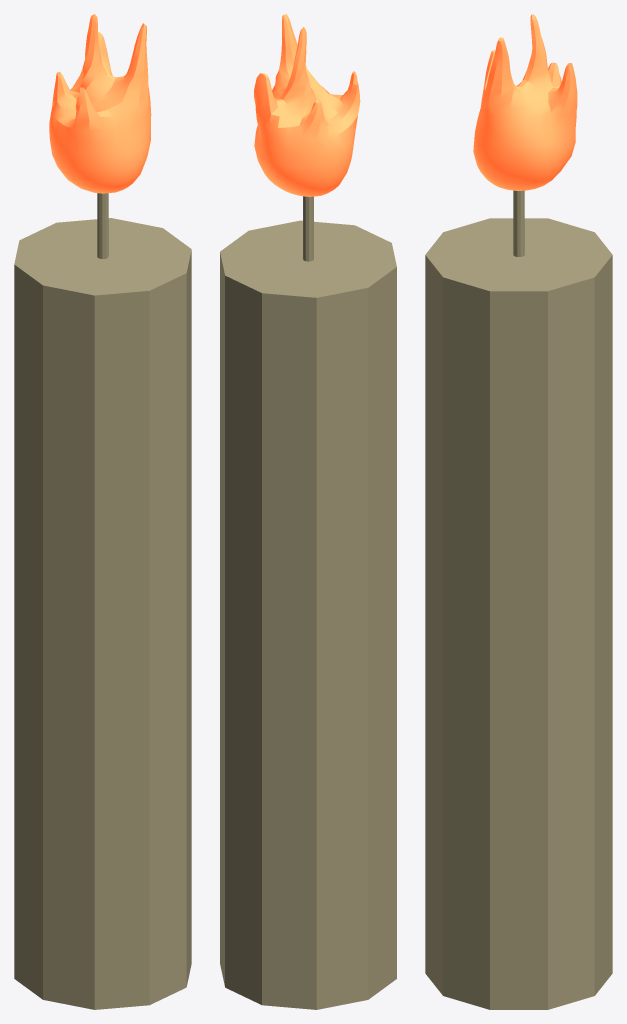
The model's file is FL_Candle 3.fbx.
3 renders of one model, left to right at view 1: azimuth 30°, elevation 25°; view 2: azimuth 150°, elevation 25°; view 3: azimuth 270°, elevation 25°, orthographic.
Visible parts, largest first — view 1: Candle 1.004; view 2: Candle 1.004; view 3: Candle 1.004.
Boxes of the visible parts, box(x1,y1,x2,y2) form: Candle 1.004: box(14, 14, 191, 1009); Candle 1.004: box(220, 14, 396, 1009); Candle 1.004: box(425, 14, 612, 1009).
Bounding box in the file's own units: 17.05 × 104 × 18.5.
